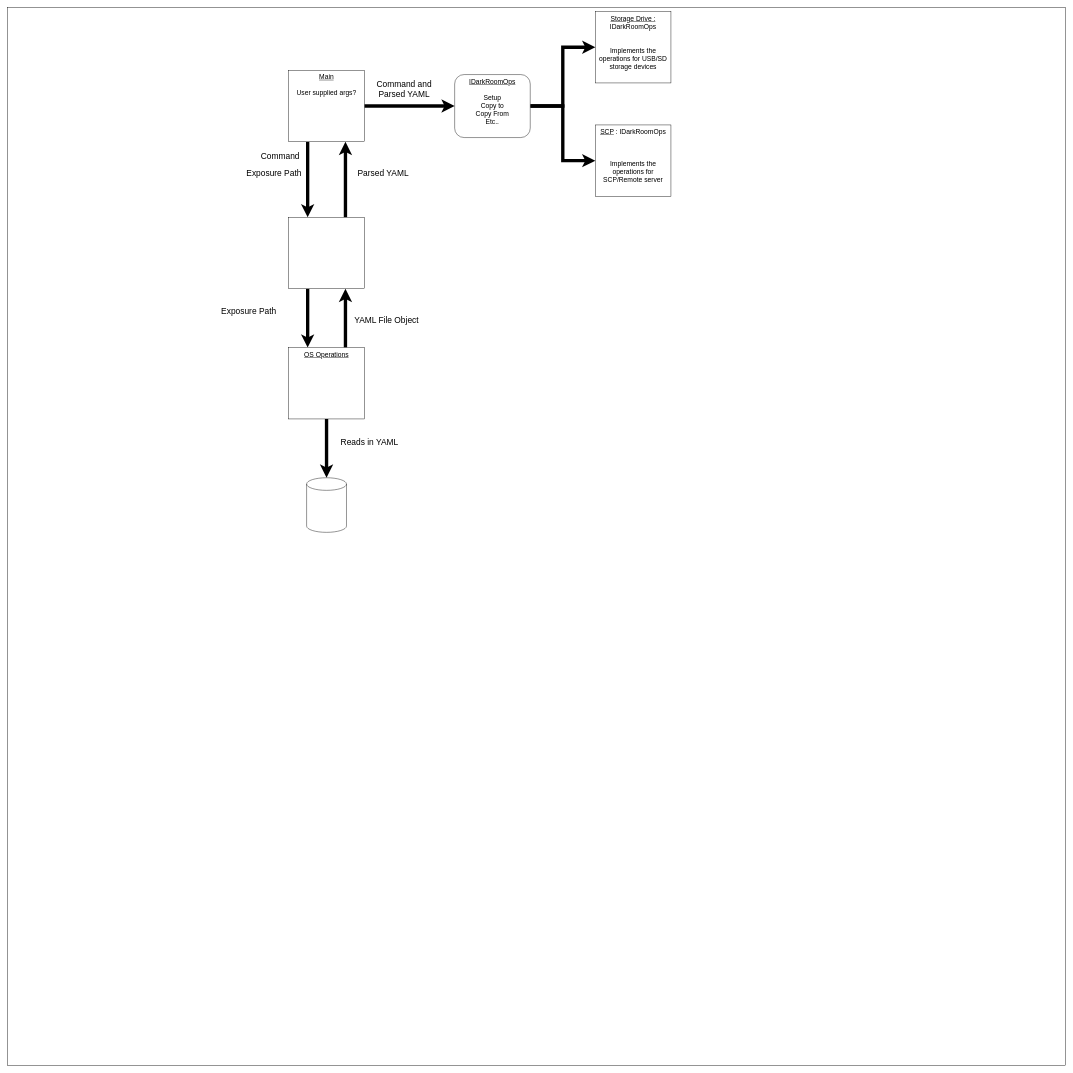
Image size: 1073x1073. Some labels were removed from this diagram. The shapes that lost their labels are listed below. From the top down, each one's centre as x and y in pixels, then its label:
At (326,253): "Exposure Parser".
At (326,504): "Exposure FIle".
